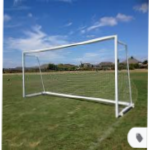goals: (19, 33, 137, 119)
